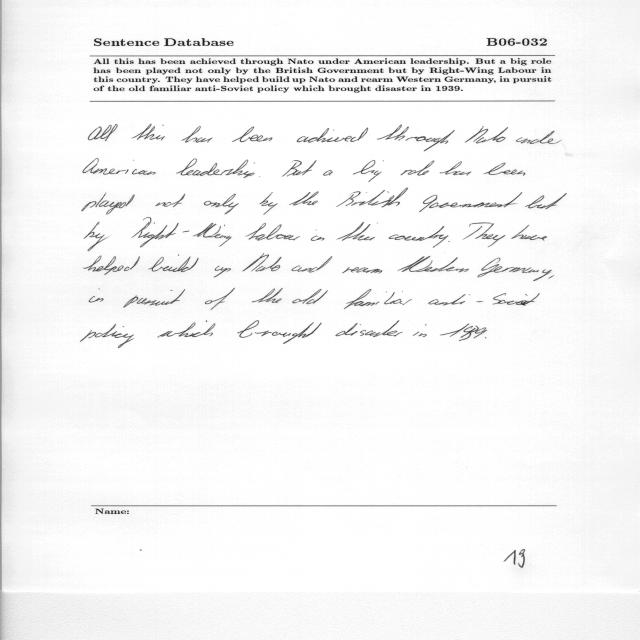word: (132, 218, 232, 248), (377, 125, 455, 152), (420, 192, 523, 212), (237, 320, 322, 344), (477, 258, 552, 281), (176, 159, 255, 178), (337, 188, 409, 207), (344, 289, 412, 309), (428, 293, 540, 305), (81, 324, 134, 348), (389, 226, 449, 247), (83, 158, 156, 175), (123, 289, 185, 308), (397, 256, 469, 272), (82, 193, 134, 215), (84, 255, 140, 275), (336, 321, 403, 337), (297, 128, 368, 143), (463, 223, 505, 248), (158, 321, 216, 338), (246, 223, 300, 240), (149, 254, 199, 272), (440, 324, 487, 341), (336, 222, 378, 241), (465, 126, 508, 144), (243, 254, 282, 272), (204, 194, 239, 214), (292, 256, 333, 273), (84, 222, 108, 251), (353, 160, 384, 182), (525, 193, 567, 209), (205, 288, 235, 310), (232, 127, 272, 142), (516, 131, 562, 144), (282, 160, 317, 177), (484, 163, 526, 176), (131, 124, 165, 140), (511, 225, 547, 240), (292, 289, 328, 304), (181, 126, 212, 143), (88, 124, 118, 141), (401, 161, 435, 176), (440, 161, 471, 176), (252, 288, 283, 303), (289, 192, 319, 206), (260, 192, 278, 215), (156, 194, 186, 207), (342, 267, 382, 274), (89, 289, 104, 303), (214, 266, 231, 278), (413, 324, 427, 337), (311, 230, 324, 241), (323, 170, 333, 176), (548, 275, 554, 279), (448, 241, 450, 242), (485, 337, 486, 339), (259, 176, 260, 177)
